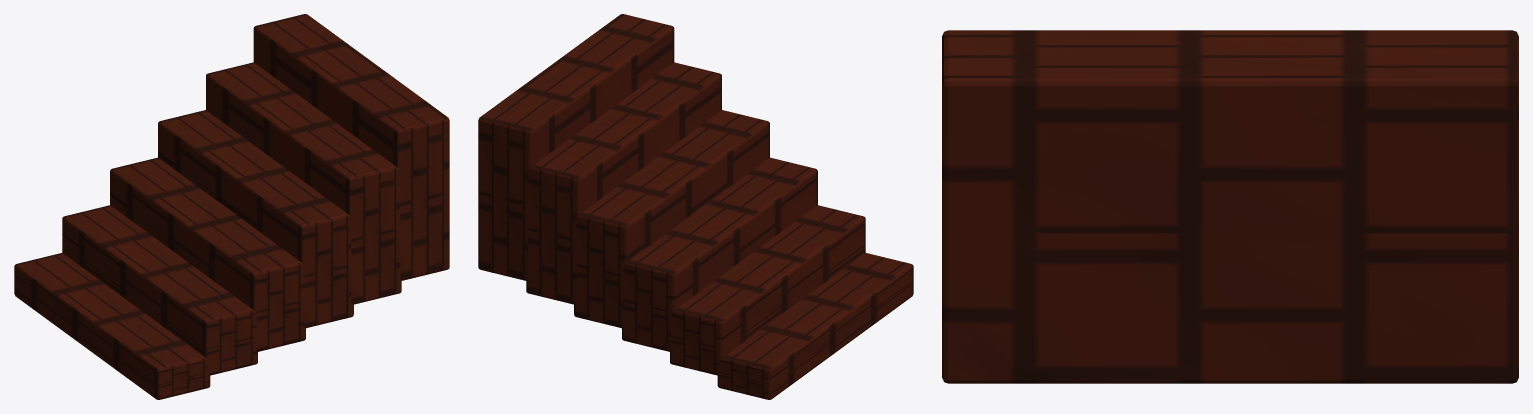
Rendered from SM_FC_Stair_6Step.glb.
3 renders of one model, left to right at view 1: azimuth 30°, elevation 25°; view 2: azimuth 150°, elevation 25°; view 3: azimuth 270°, elevation 25°, orthographic. The views are drawn at different scales.
Parts seen in each view (by area): view 1: SM_FC_Stair_6Step; view 2: SM_FC_Stair_6Step; view 3: SM_FC_Stair_6Step.
Boxes of the visible parts, x1,y1,x2,y2 form: SM_FC_Stair_6Step: (14, 14, 449, 399); SM_FC_Stair_6Step: (478, 14, 913, 399); SM_FC_Stair_6Step: (942, 30, 1518, 383).
Bounding box in the file's own units: 2.82 × 1.95 × 2.4.
1 material, 1 textured.
